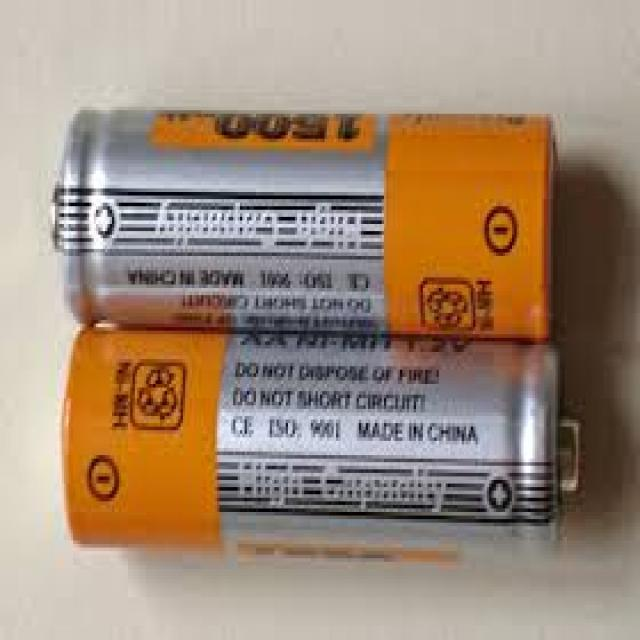battery: (58, 326, 584, 568), (48, 106, 558, 343)
